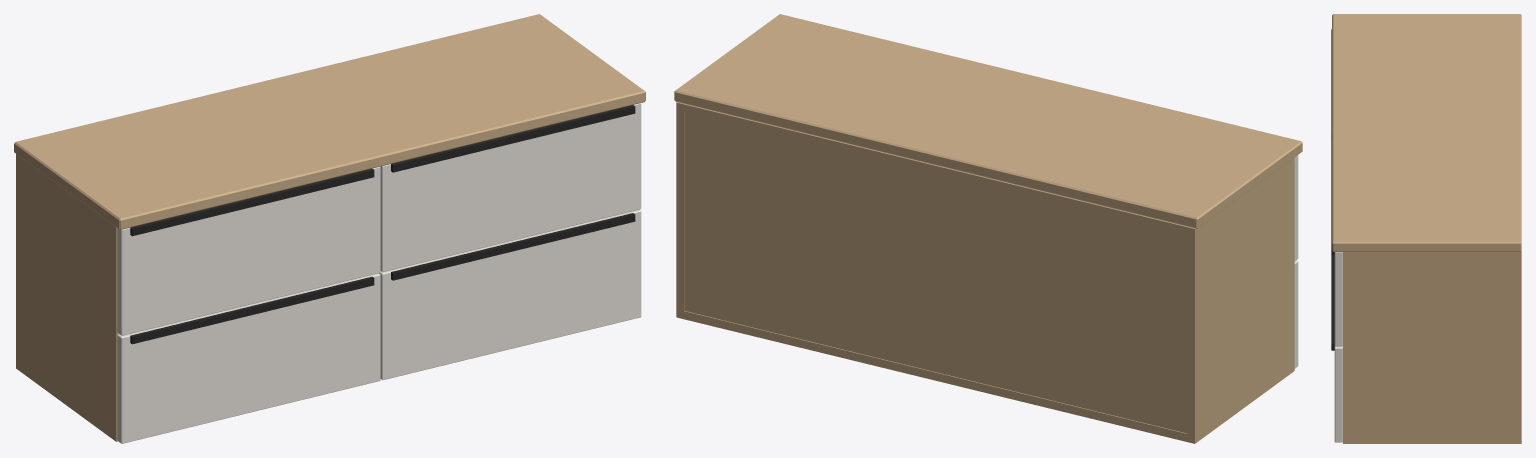
File: 32_komoda_wiszaca_120.glb
3 views of the same model, side by side, from view 1: azimuth 30°, elevation 25°; view 2: azimuth 150°, elevation 25°; view 3: azimuth 270°, elevation 25° (orthographic). The views are drawn at different scales.
Parts seen in each view (by area): view 1: Wierzch, Front_szuflada_2, Front_szuflada_4, Front_szuflada_1, Front_szuflada_3, Korpus, Uchwyty; view 2: Korpus, Wierzch; view 3: Wierzch, Korpus, Front_szuflada_4, Front_szuflada_3, Uchwyty.
Boxes of the visible parts, bbox=[...] form: Wierzch: bbox=[14, 14, 645, 229]; Front_szuflada_2: bbox=[117, 273, 380, 443]; Front_szuflada_4: bbox=[379, 209, 641, 380]; Front_szuflada_1: bbox=[117, 166, 380, 335]; Front_szuflada_3: bbox=[380, 103, 641, 272]; Korpus: bbox=[16, 154, 118, 441]; Uchwyty: bbox=[130, 105, 635, 344]; Korpus: bbox=[676, 102, 1294, 443]; Wierzch: bbox=[674, 14, 1302, 228]; Wierzch: bbox=[1332, 14, 1521, 251]; Korpus: bbox=[1343, 251, 1521, 443]; Front_szuflada_4: bbox=[1334, 346, 1342, 442]; Front_szuflada_3: bbox=[1334, 252, 1342, 346]; Uchwyty: bbox=[1331, 29, 1334, 350].
Size of the model in its own units: 1.21 by 0.5 by 0.426.
